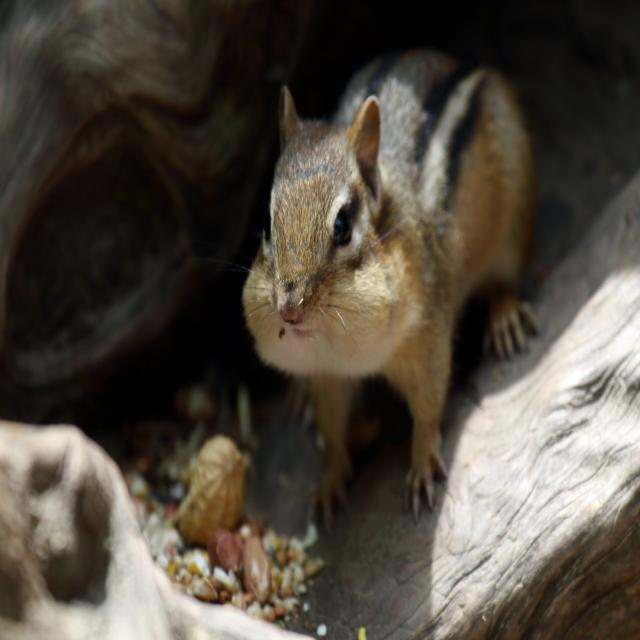Squirrel: (238, 49, 539, 510)
